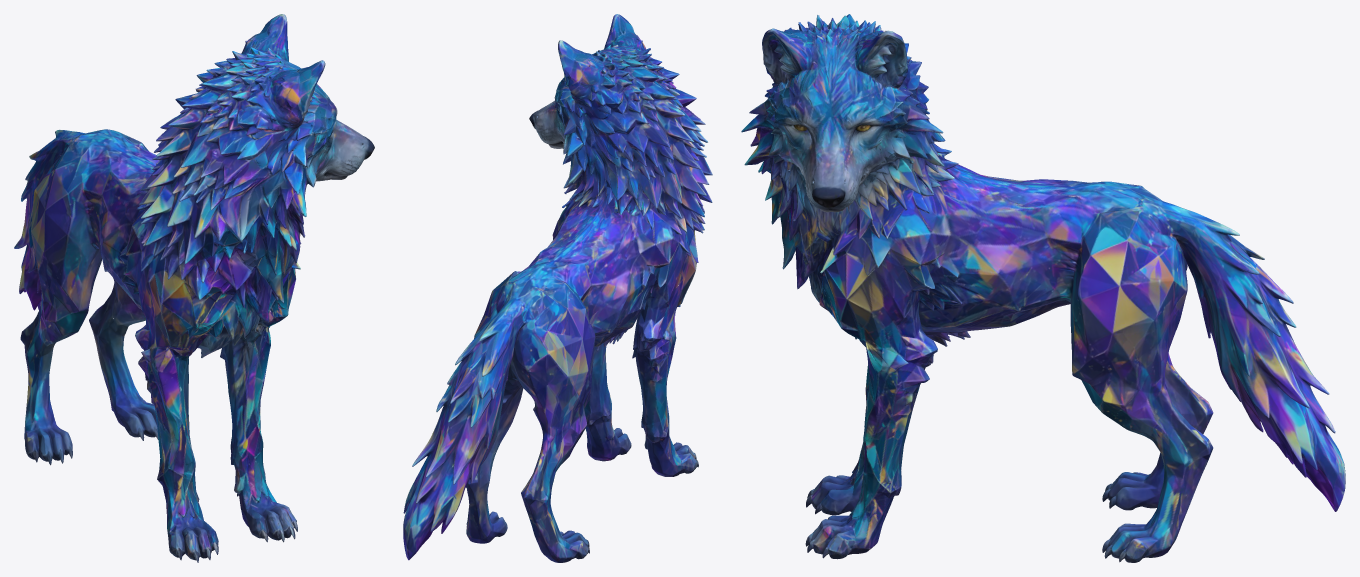
Rendered from quantix.glb.
The picture shows the model from 3 angles, left to right: view 1: azimuth 30°, elevation 25°; view 2: azimuth 150°, elevation 25°; view 3: azimuth 270°, elevation 25°; orthographic projection. The views are drawn at different scales.
Visible parts, largest first — view 1: tripo_node_50668738-2873-4719-9675-4504bf23b513; view 2: tripo_node_50668738-2873-4719-9675-4504bf23b513; view 3: tripo_node_50668738-2873-4719-9675-4504bf23b513.
Boxes of the visible parts, x1,y1,x2,y2 form: tripo_node_50668738-2873-4719-9675-4504bf23b513: [14, 14, 374, 562]; tripo_node_50668738-2873-4719-9675-4504bf23b513: [403, 14, 712, 562]; tripo_node_50668738-2873-4719-9675-4504bf23b513: [741, 14, 1345, 562].
Size of the model in its own units: 0.4453 by 0.9602 by 0.9789.
Materials: 1 (1 with a texture image).
